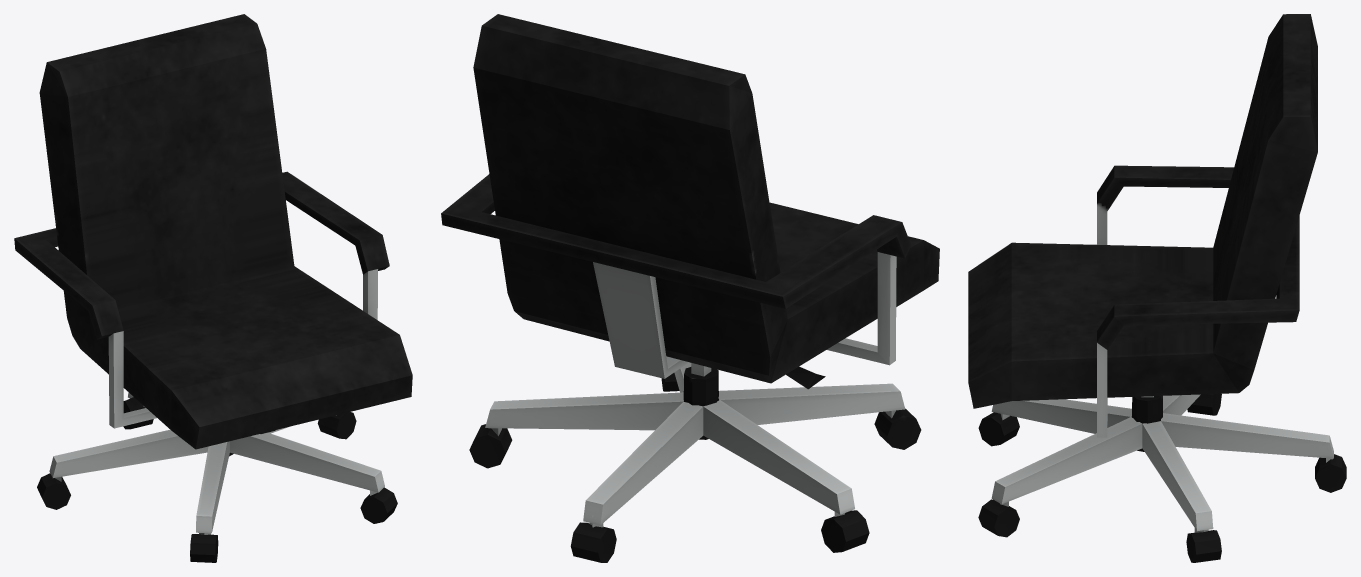
File: sb_obj_ModernCity039_officechair_a.fbx
3 views of the same model, side by side, from view 1: azimuth 30°, elevation 25°; view 2: azimuth 150°, elevation 25°; view 3: azimuth 270°, elevation 25° (orthographic). The views are drawn at different scales.
Parts seen in each view (by area): view 1: sb_obj_ModernCity039_officechair_a; view 2: sb_obj_ModernCity039_officechair_a; view 3: sb_obj_ModernCity039_officechair_a.
Part boxes in pixels (x1,y1,x2,y2): sb_obj_ModernCity039_officechair_a: (14, 14, 412, 562); sb_obj_ModernCity039_officechair_a: (441, 14, 939, 562); sb_obj_ModernCity039_officechair_a: (968, 14, 1346, 562).
Size of the model in its own units: 0.6385 by 0.7675 by 0.6237.
1 material, 1 textured.
